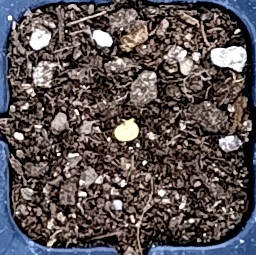pepper seed: (44, 46, 184, 189)
